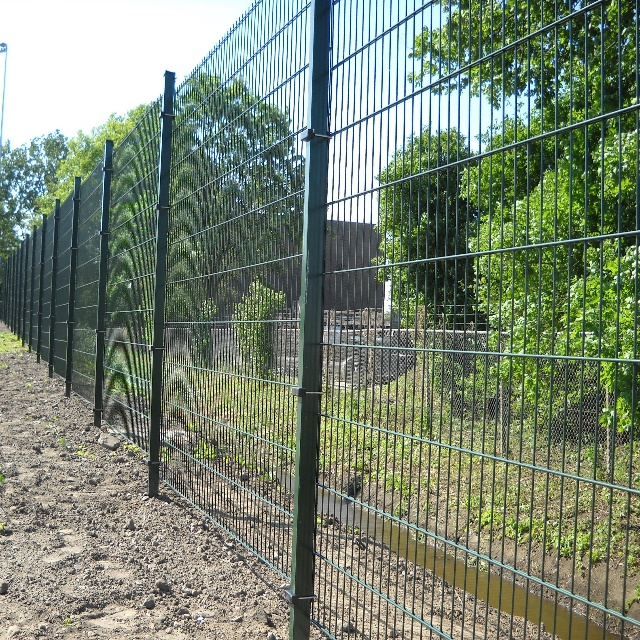obstacle: (49, 10, 559, 610)
